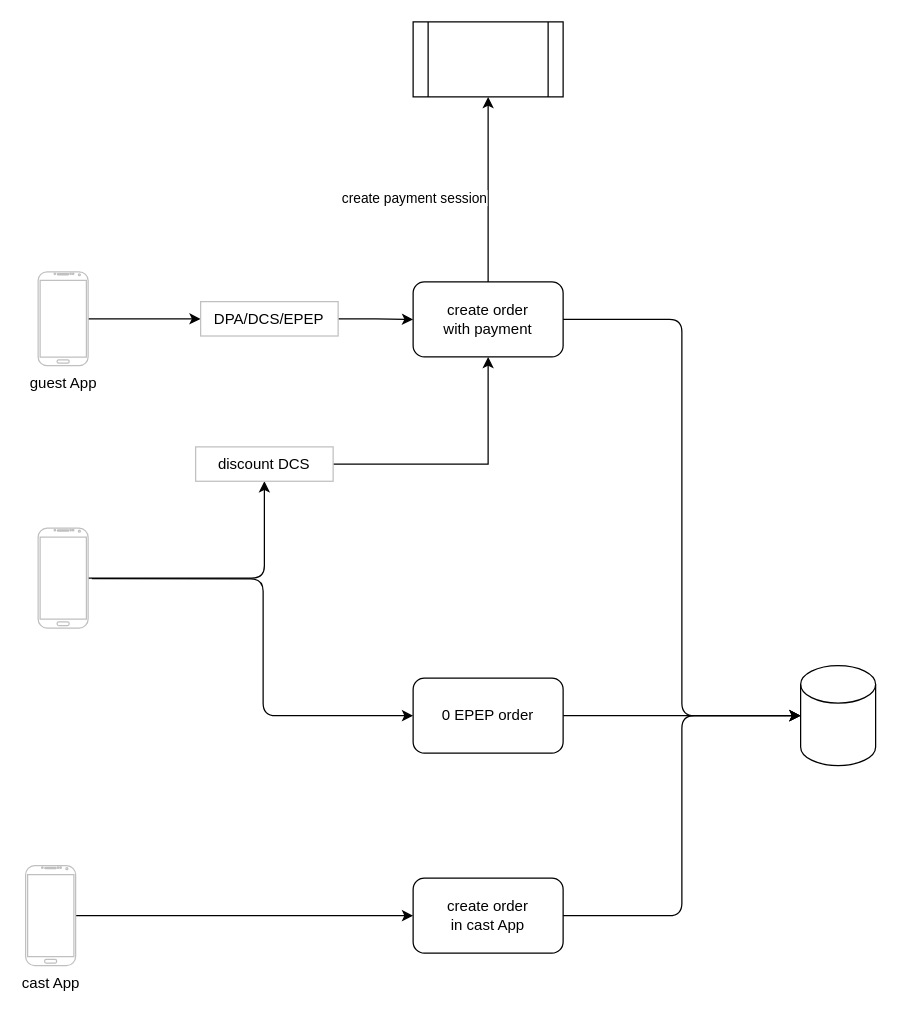
Some shapes in this 898 by 1014 pixel diagram are drawn without their labels. Each missing label, with the box of its shape:
DB: (799, 664, 876, 766)
my coupon: (37, 527, 88, 628)
PIS: (412, 21, 563, 97)
